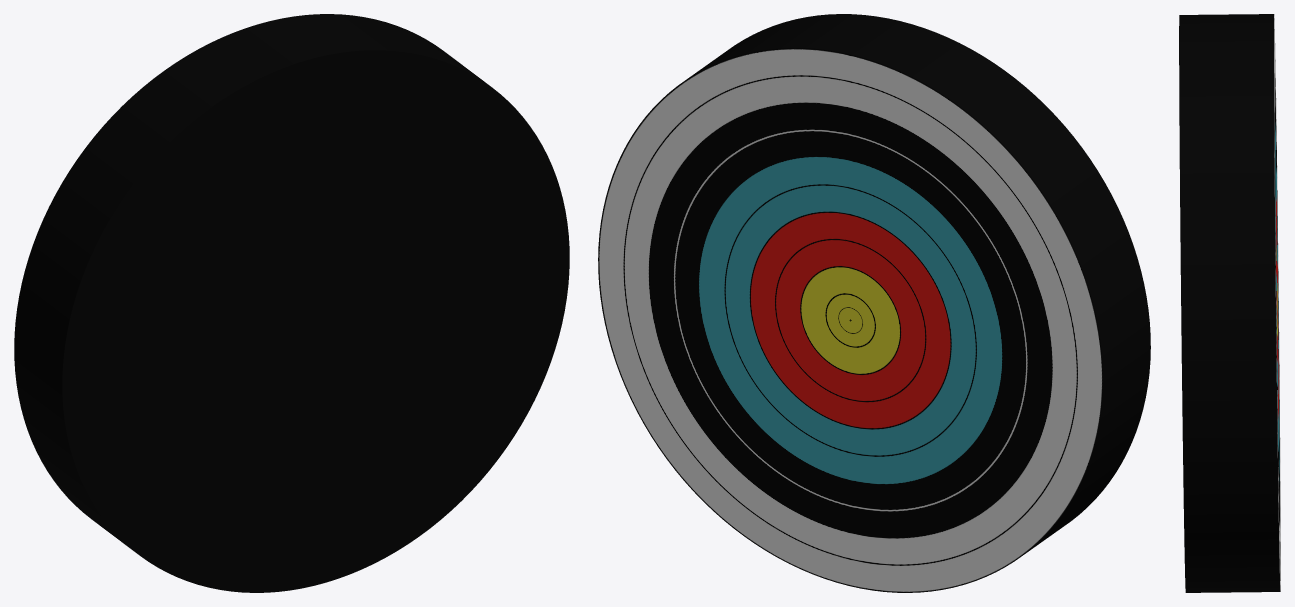
File: CR_target2.obj
3 renders of one model, left to right at view 1: azimuth 30°, elevation 25°; view 2: azimuth 150°, elevation 25°; view 3: azimuth 270°, elevation 25°, orthographic.
Visible parts, largest first — view 1: Object_5; view 2: Object_6, Object_5; view 3: Object_5, Object_6.
Boxes of the visible parts, x1=… form: Object_5: x1=14, y1=14, x2=569, y2=592; Object_6: x1=598, y1=48, x2=1102, y2=592; Object_5: x1=688, y1=14, x2=1150, y2=553; Object_5: x1=1179, y1=14, x2=1280, y2=592; Object_6: x1=1274, y1=14, x2=1280, y2=591.
Bounding box in the file's own units: 2.44 × 2.44 × 0.4296.
